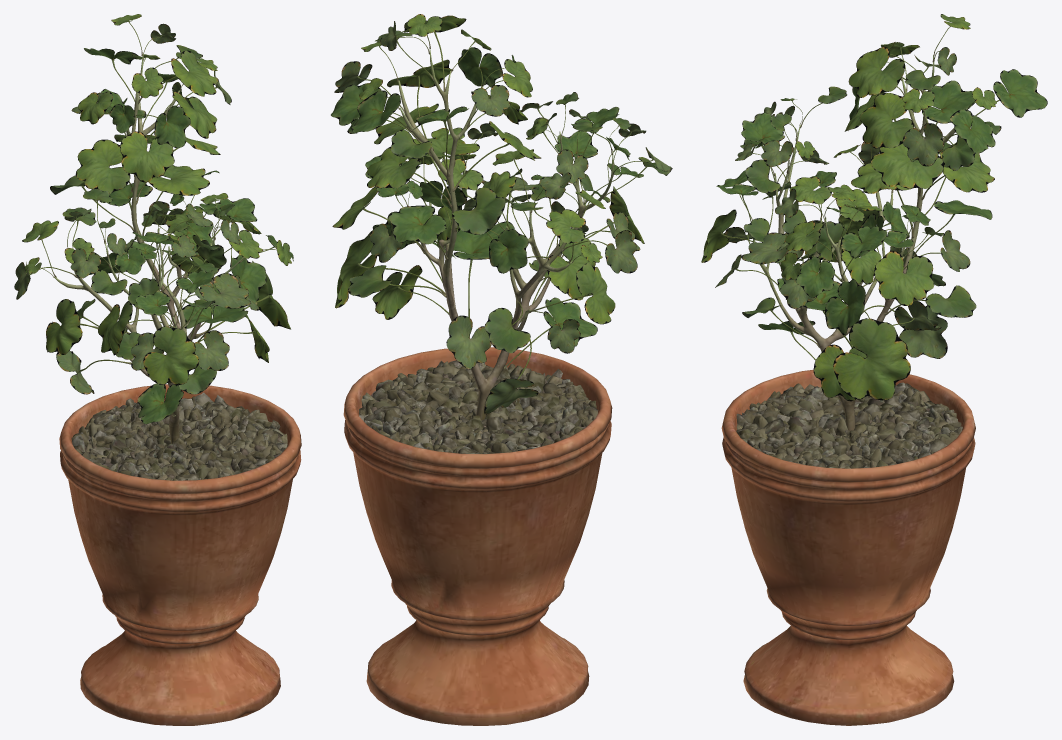
Rendered from potted-plant-leafy-low.glb.
3 renders of one model, left to right at view 1: azimuth 30°, elevation 25°; view 2: azimuth 150°, elevation 25°; view 3: azimuth 270°, elevation 25°, orthographic. The views are drawn at different scales.
Visible parts, largest first — view 1: potted_plant_01_pot, potted_plant_01_leaves, potted_plant_01_pebbles, potted_plant_01_stem; view 2: potted_plant_01_pot, potted_plant_01_leaves, potted_plant_01_pebbles, potted_plant_01_stem; view 3: potted_plant_01_pot, potted_plant_01_leaves, potted_plant_01_pebbles, potted_plant_01_stem.
Boxes of the visible parts, box(x1,y1,x2,y2) form: potted_plant_01_pot: box(59, 384, 301, 725); potted_plant_01_leaves: box(14, 14, 293, 424); potted_plant_01_pebbles: box(71, 392, 287, 480); potted_plant_01_stem: box(54, 54, 244, 443); potted_plant_01_pot: box(343, 347, 612, 725); potted_plant_01_leaves: box(331, 14, 672, 414); potted_plant_01_pebbles: box(359, 360, 597, 453); potted_plant_01_stem: box(398, 49, 613, 420); potted_plant_01_pot: box(721, 369, 975, 725); potted_plant_01_leaves: box(701, 14, 1047, 401); potted_plant_01_pebbles: box(736, 382, 962, 468); potted_plant_01_stem: box(752, 55, 967, 431).
Bounding box in the file's own units: 0.5874 × 1.34 × 0.6336.
2 materials, 2 textured.
